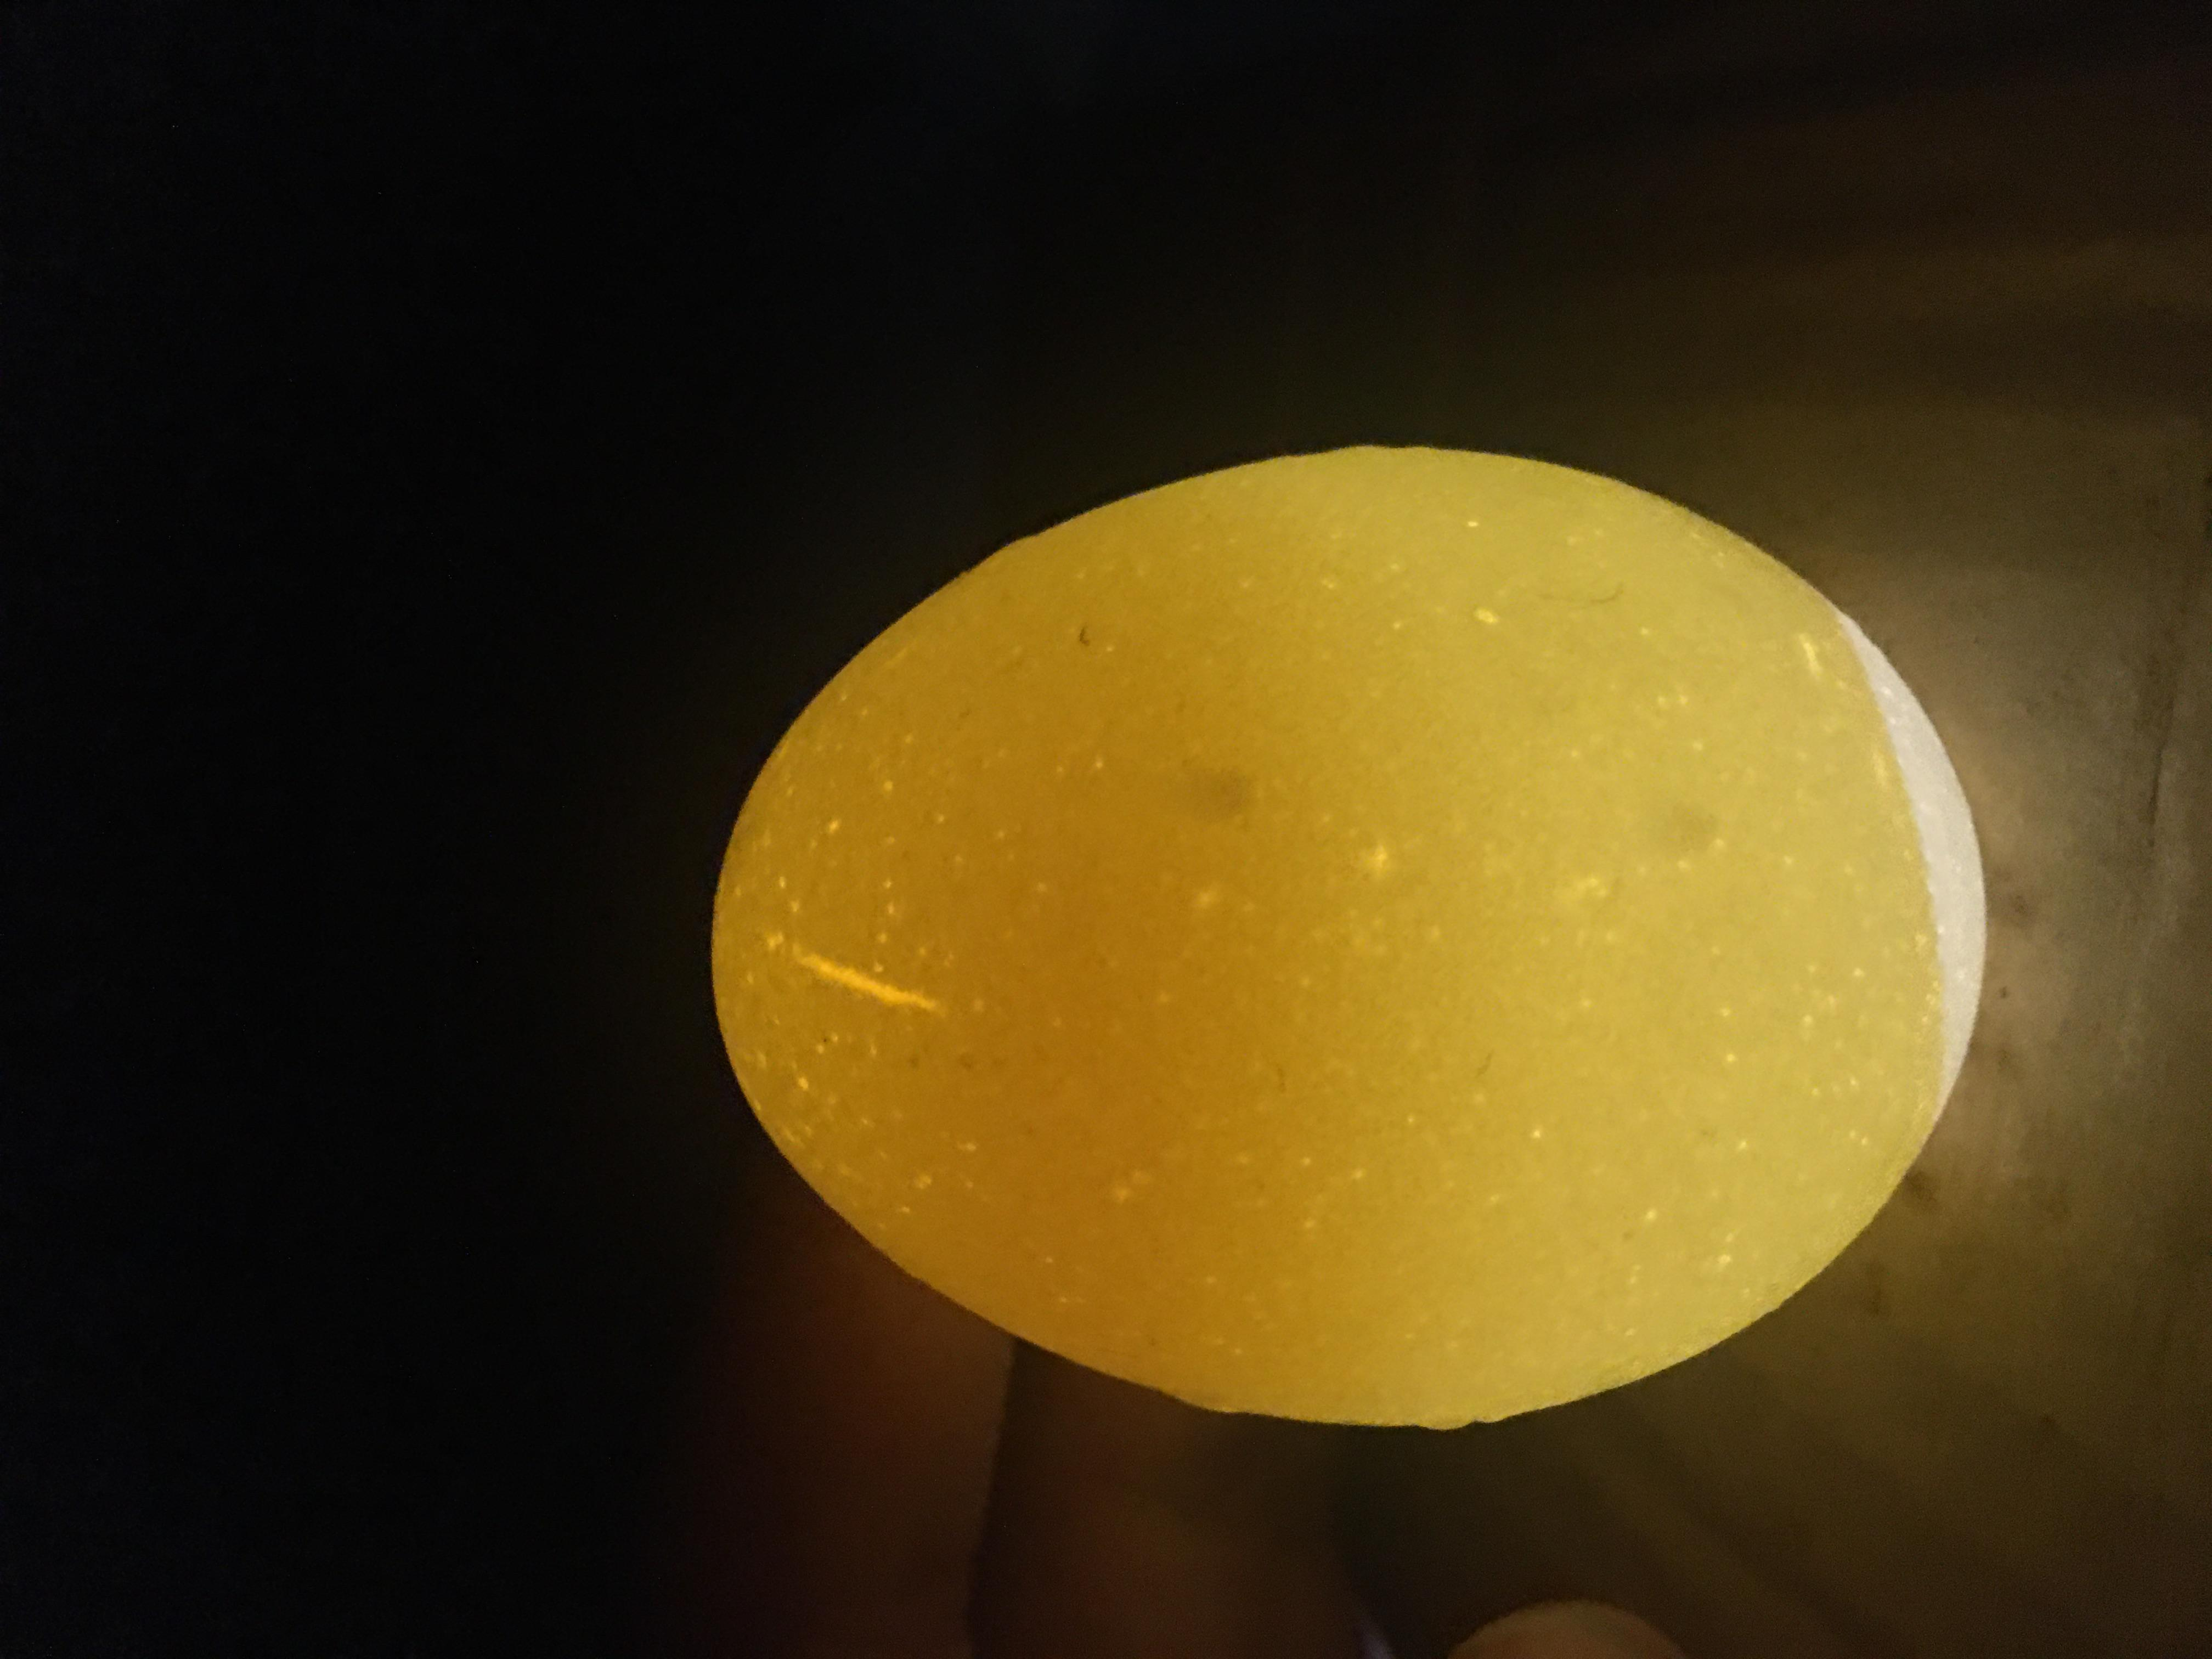B - Fair: (292, 506, 1631, 1498)
